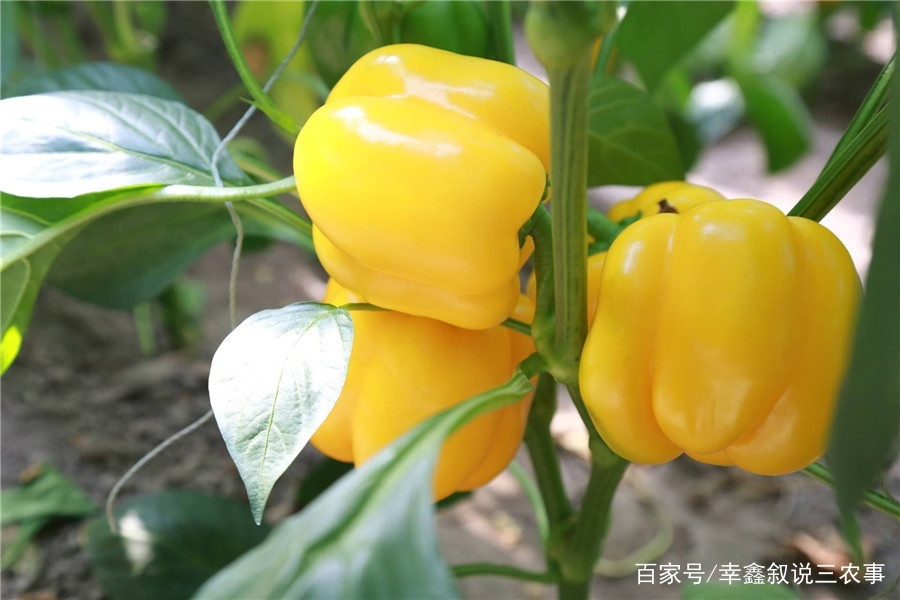fruit: (575, 196, 865, 480), (291, 40, 553, 330), (308, 275, 540, 507), (586, 175, 726, 335)
pedicle: (519, 171, 548, 286), (589, 208, 639, 253)
